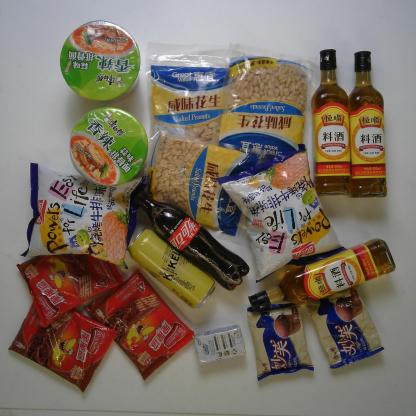Alcohol: (128, 228, 216, 309)
Dessert: (83, 268, 195, 379), (16, 218, 124, 328), (8, 290, 118, 391), (306, 284, 384, 368), (246, 296, 315, 380)
Dried Fruit: (138, 125, 268, 247), (212, 42, 319, 178), (145, 42, 250, 180)
Drink: (134, 190, 250, 290)
Instant Noodles: (60, 19, 141, 100), (69, 107, 149, 186)
Milk: (194, 324, 247, 365)
Puffed Food: (216, 143, 349, 284), (20, 163, 148, 271)
Seasoner: (248, 238, 395, 312), (311, 48, 351, 197), (348, 51, 388, 198)
